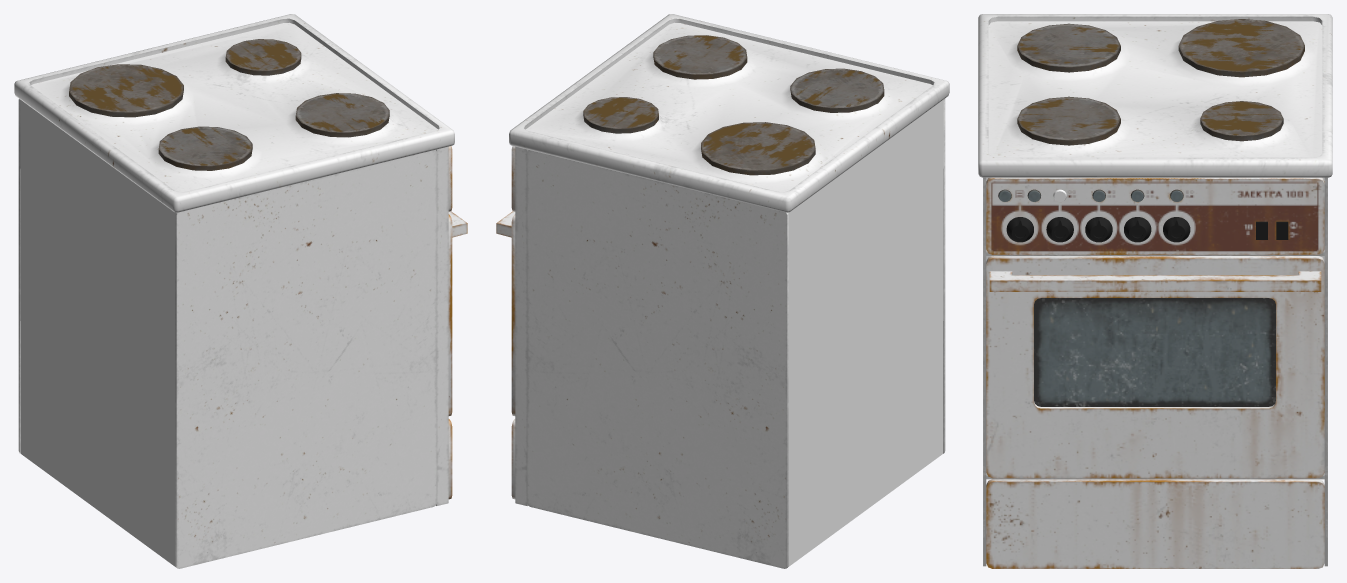
File: stove.glb
The picture shows the model from 3 angles, left to right: view 1: azimuth 30°, elevation 25°; view 2: azimuth 150°, elevation 25°; view 3: azimuth 270°, elevation 25°; orthographic projection. The views are drawn at different scales.
Visible parts, largest first — view 1: sides_lp, Plane, burners_lp, burner3_lp, straight_side_lp, burner1_lp, burner2_lp, burner4_lp, door_lp; view 2: sides_lp, Plane, burners_lp, burner3_lp, straight_side_lp, burner1_lp, burner2_lp, burner4_lp, door_lp; view 3: door_lp, burners_lp, bottom_shelf_lp, dashboard_lp, burner3_lp, handle_lp, burner2_lp, burner1_lp, straight_side_lp, burner4_lp, carcas_lp, spinner5_lp (+4 smaller).
Boxes of the visible parts, <box> form: sides_lp: <box>18,99,436,568</box>; Plane: <box>20,100,176,566</box>; burners_lp: <box>14,14,454,212</box>; burner3_lp: <box>69,64,183,117</box>; straight_side_lp: <box>436,146,448,505</box>; burner1_lp: <box>295,93,389,137</box>; burner2_lp: <box>158,126,252,170</box>; burner4_lp: <box>225,39,301,75</box>; door_lp: <box>448,214,452,415</box>; sides_lp: <box>527,100,945,568</box>; Plane: <box>788,98,945,566</box>; burners_lp: <box>509,14,949,212</box>; burner3_lp: <box>701,122,815,175</box>; straight_side_lp: <box>515,146,527,505</box>; burner1_lp: <box>653,35,747,79</box>; burner2_lp: <box>790,68,884,112</box>; burner4_lp: <box>583,97,658,133</box>; door_lp: <box>511,214,515,415</box>; door_lp: <box>986,256,1324,478</box>; burners_lp: <box>978,14,1332,177</box>; bottom_shelf_lp: <box>986,479,1324,568</box>; dashboard_lp: <box>986,177,1324,254</box>; burner3_lp: <box>1178,19,1304,77</box>; handle_lp: <box>989,271,1321,291</box>; burner2_lp: <box>1017,23,1120,72</box>; burner1_lp: <box>1017,96,1120,145</box>; straight_side_lp: <box>983,177,1327,566</box>; burner4_lp: <box>1200,101,1283,141</box>; carcas_lp: <box>986,177,1324,479</box>; spinner5_lp: <box>1163,217,1190,242</box>.
Bounding box in the file's own units: 0.6527 × 0.7911 × 0.6168.
3 materials, 1 textured.
